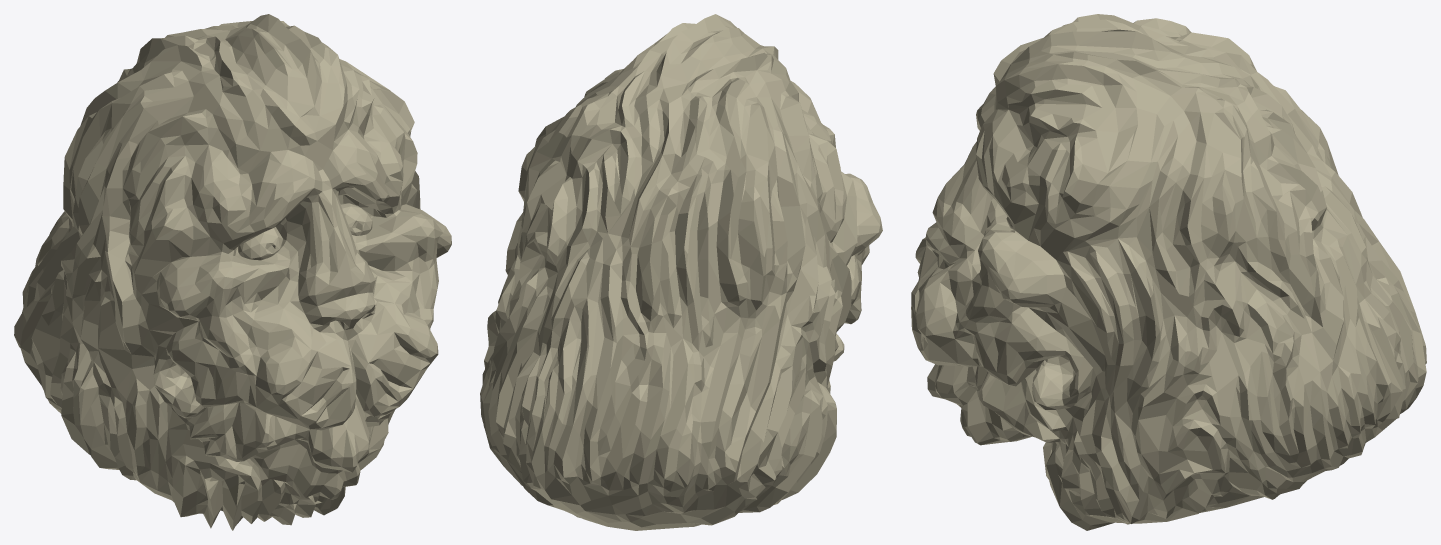
Rendered from Leone_02.glb.
3 views of the same model, side by side, from view 1: azimuth 30°, elevation 25°; view 2: azimuth 150°, elevation 25°; view 3: azimuth 270°, elevation 25° (orthographic). The views are drawn at different scales.
Parts seen in each view (by area): view 1: Leone_02; view 2: Leone_02; view 3: Leone_02.
Part boxes in pixels (x1,y1,x2,y2): Leone_02: (14,14,451,530); Leone_02: (480,14,882,530); Leone_02: (911,14,1426,530).
Bounding box in the file's own units: 2.11 × 3.01 × 2.88.
